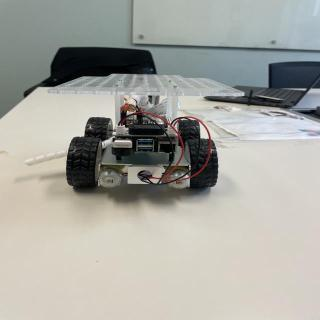vehicle: (63, 77, 223, 201)
